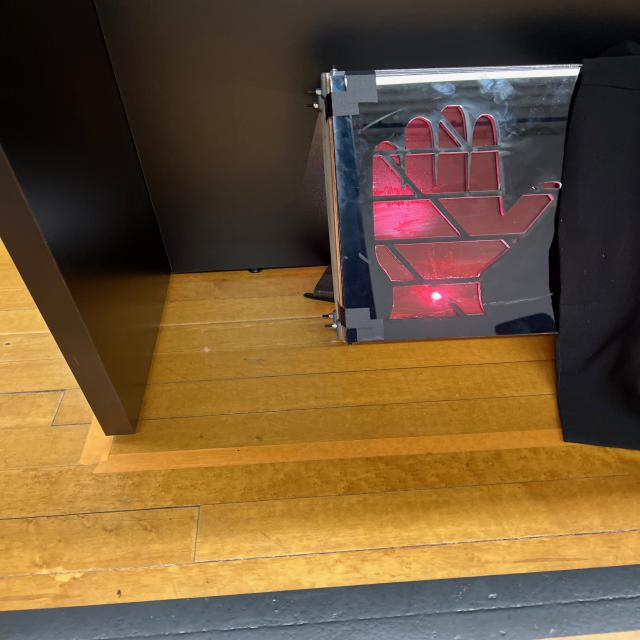stop: (339, 81, 562, 333)
